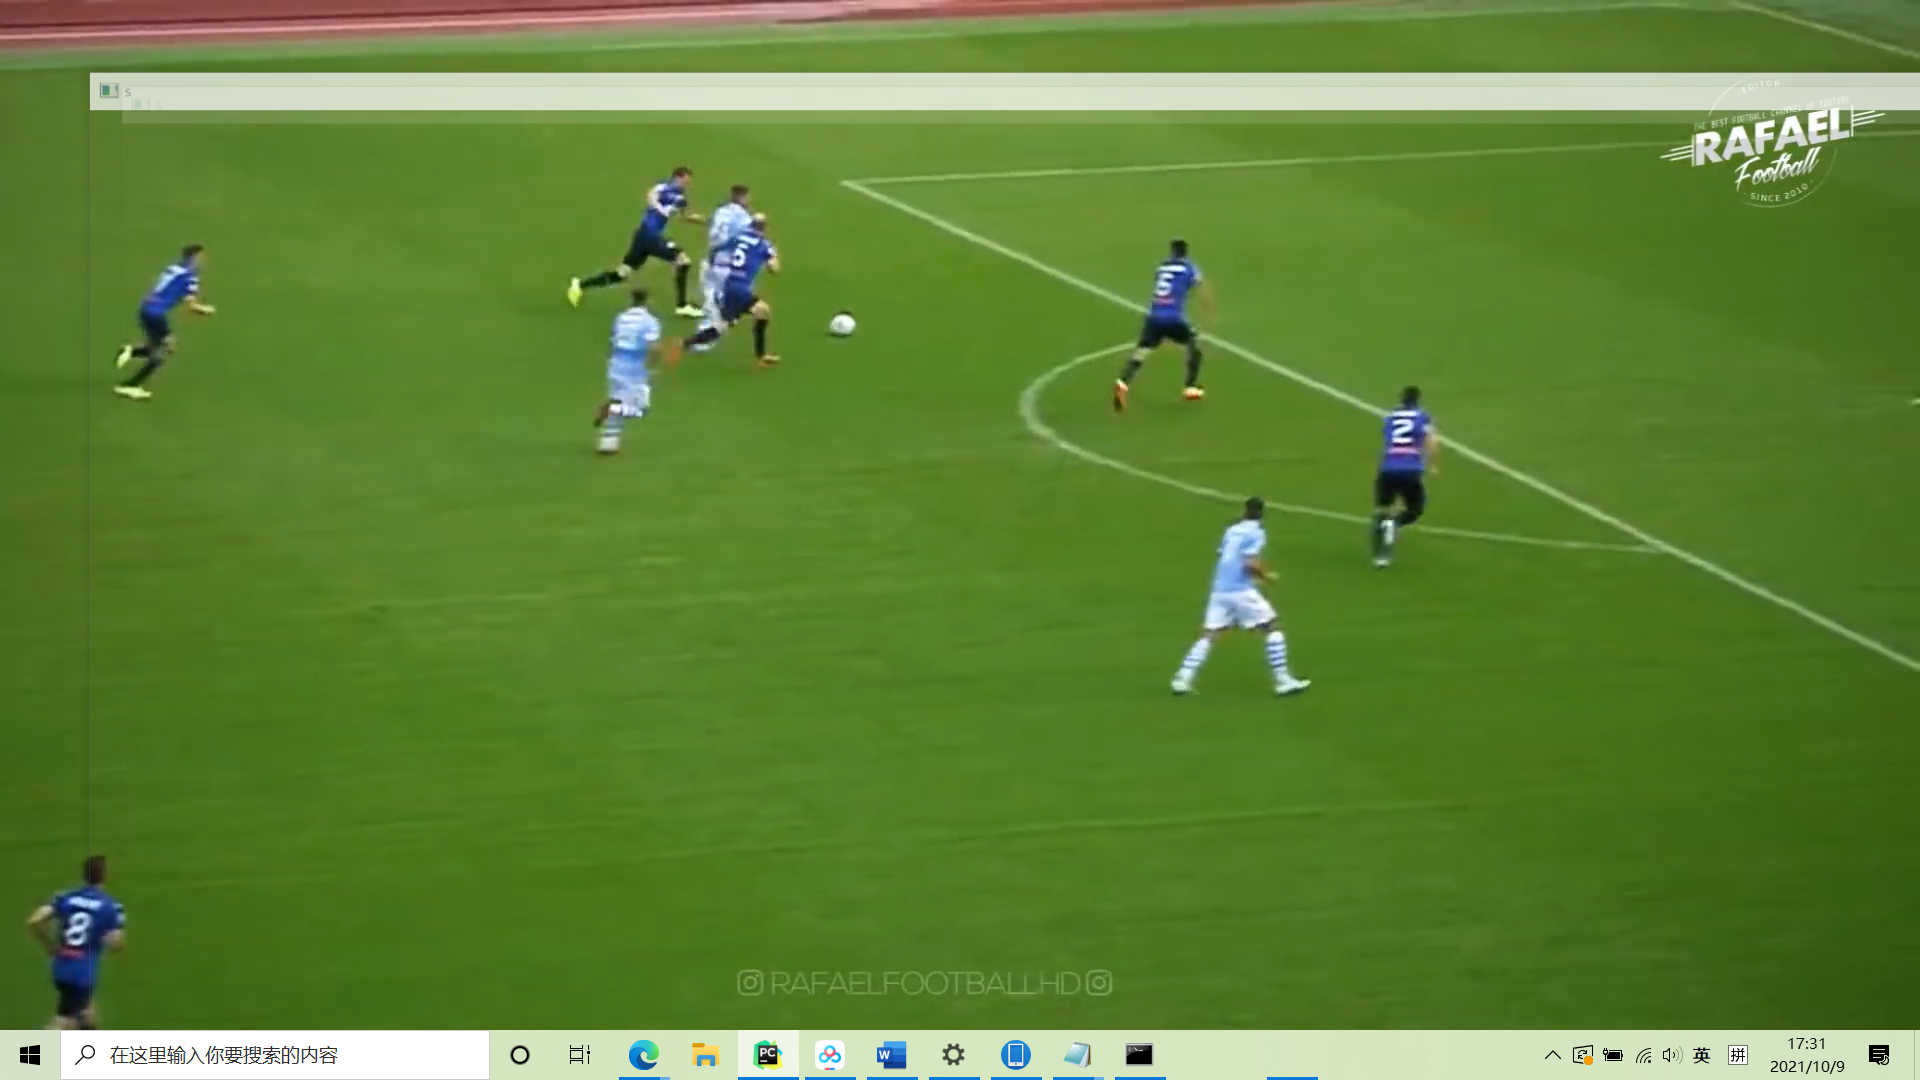ft: (827, 310, 858, 338)
